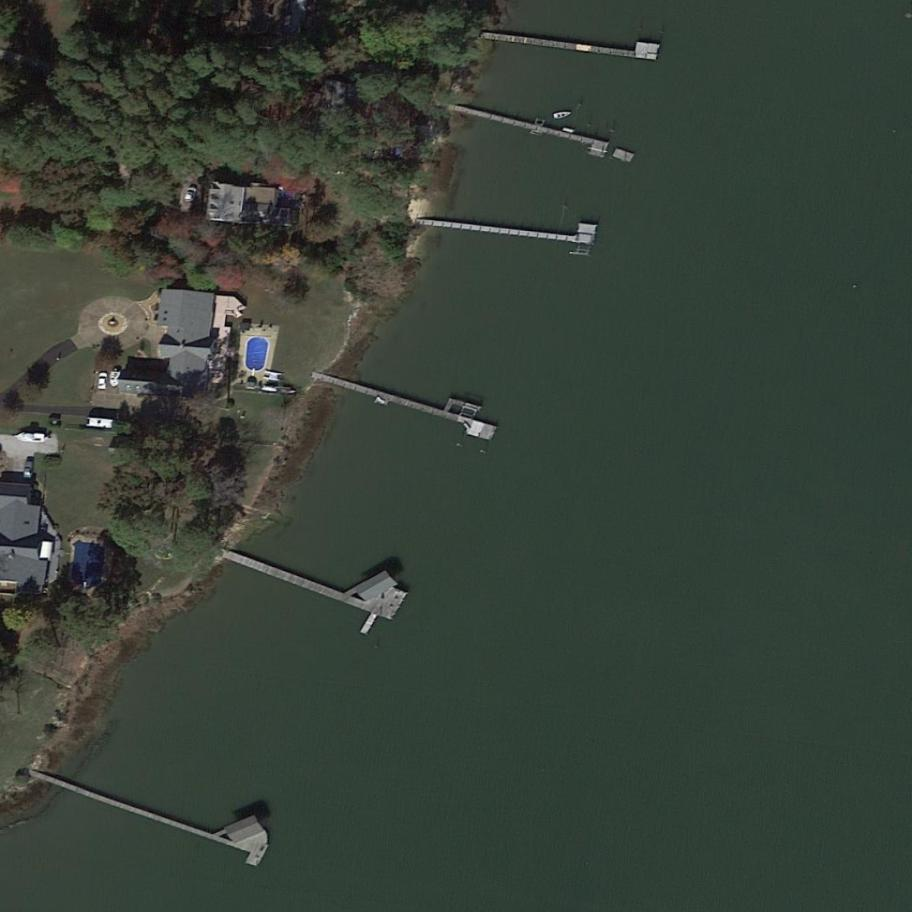ship: (12, 431, 50, 444), (549, 105, 574, 122), (108, 368, 122, 389)
small-vehicle: (83, 416, 119, 431), (181, 185, 198, 206), (95, 371, 108, 391)
